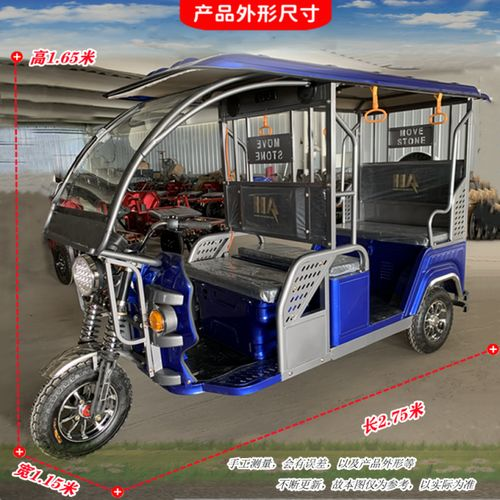empty: (21, 37, 472, 445)
